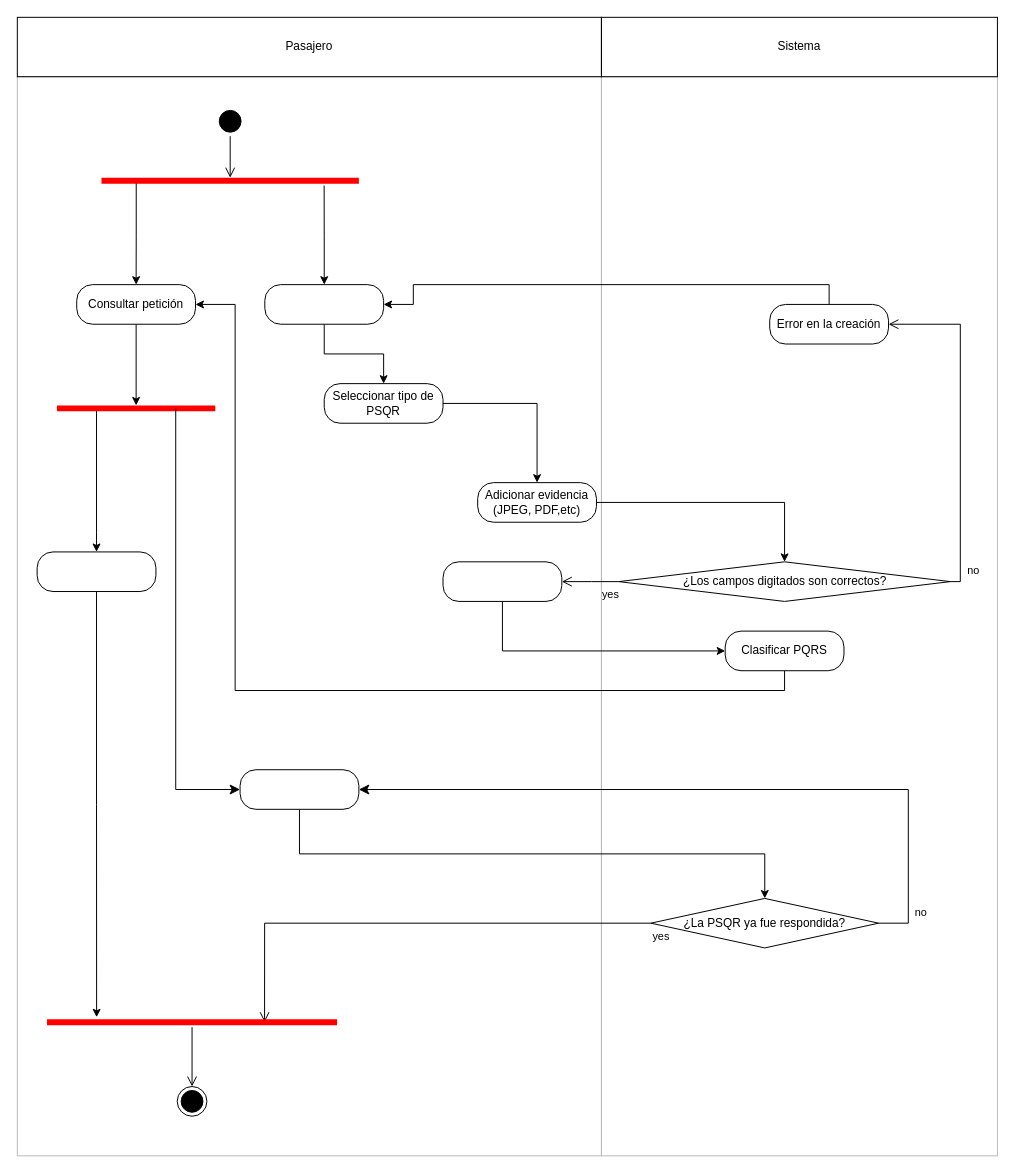
Image size: 1015x1173. Some labels were removed from this diagram. The box of each missing label's shape, as (x1, y1, x2, y2) in pixels:
Filtrar peticiones: (36, 551, 156, 592)
Guarda la queja: (442, 561, 562, 601)
Usuario crea PSQR: (264, 284, 384, 324)
Ver estado de la petición: (239, 769, 359, 809)
